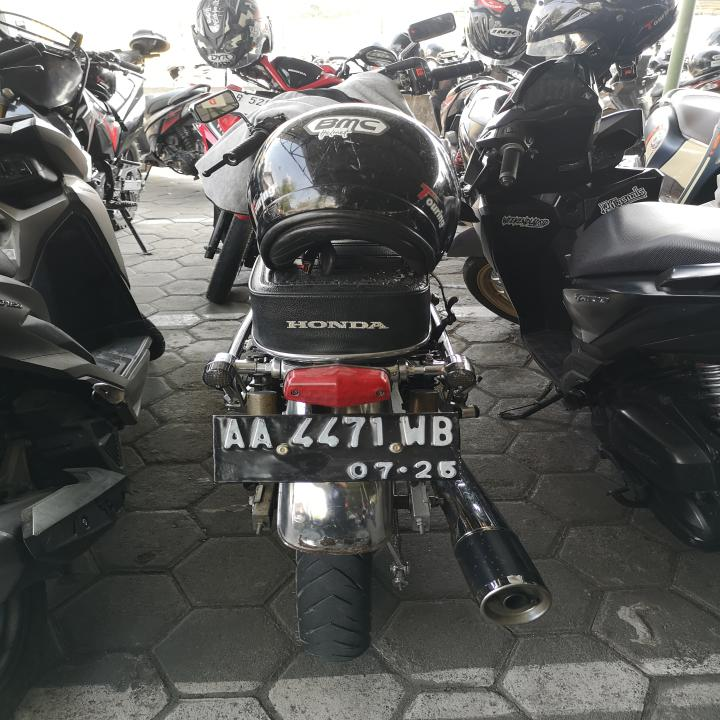plate: (210, 408, 464, 487)
